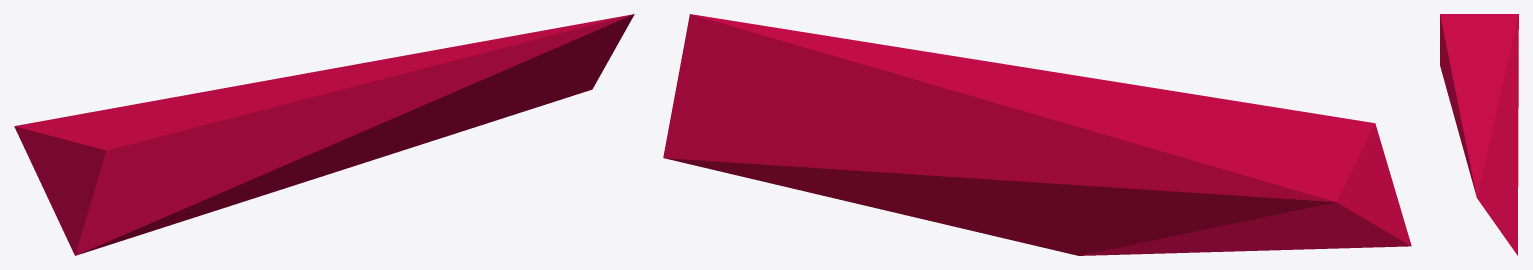
The model's file is garden_table_convex_piece_005.obj.
The picture shows the model from 3 angles, left to right: view 1: azimuth 30°, elevation 25°; view 2: azimuth 150°, elevation 25°; view 3: azimuth 270°, elevation 25°; orthographic projection. The views are drawn at different scales.
Size of the model in its own units: 0.1875 by 0.0359 by 0.0346.
